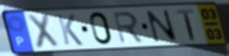0: (88, 11, 115, 47)
K: (55, 13, 85, 47)
N: (144, 9, 180, 44)
R: (112, 10, 146, 46)
T: (175, 8, 197, 42)
X: (25, 12, 62, 51)
